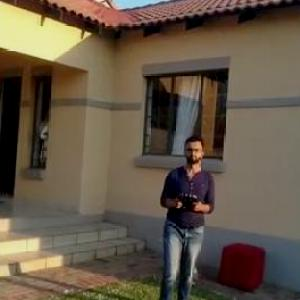follow: (153, 129, 223, 299)
